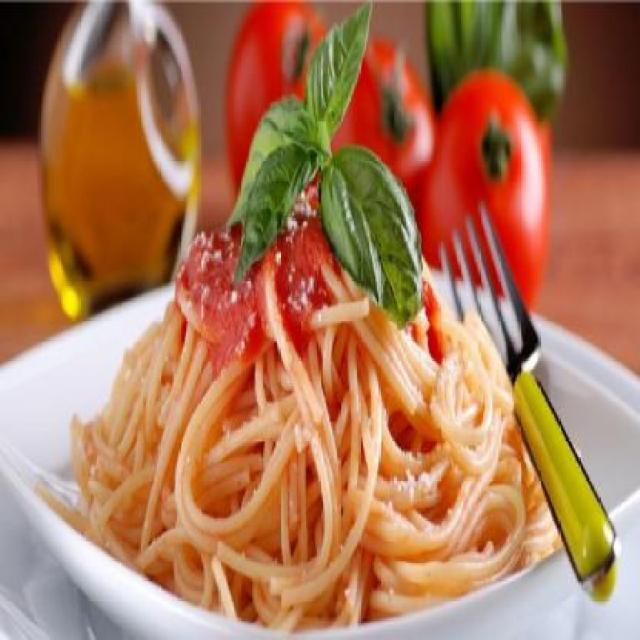Pasta al ragu: (78, 33, 574, 616)
